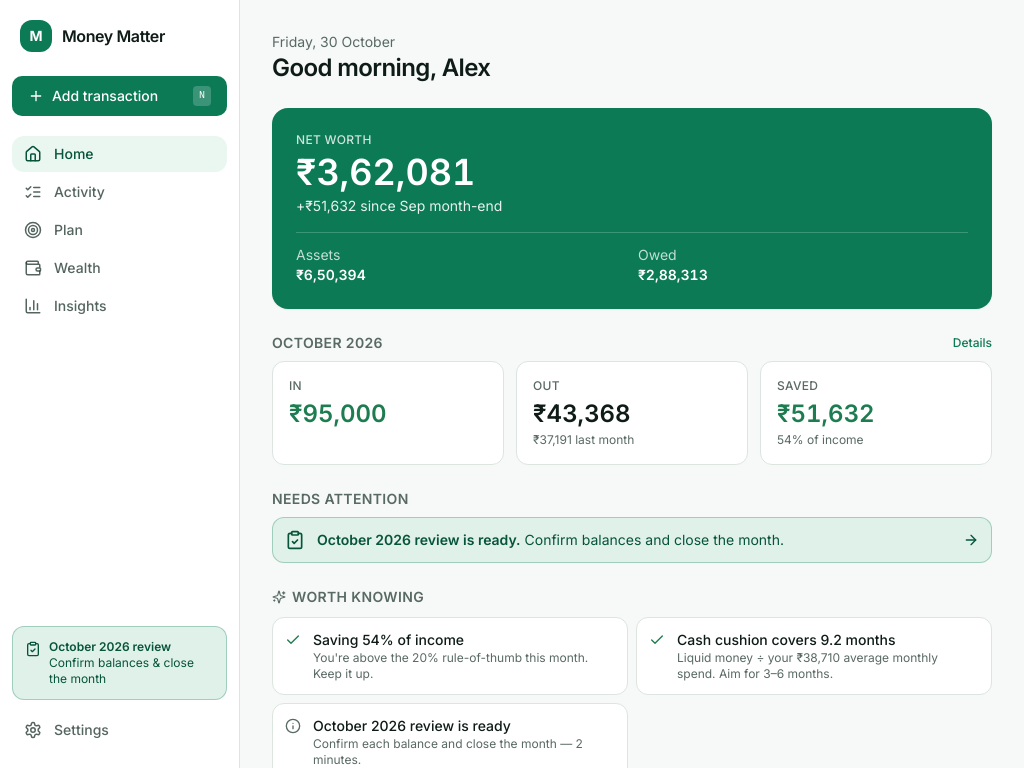
Test case: quick add › validates before saving
The image size is (1024, 768).
Expected: the text "Net worth" is shown, [296,132,372,147]
Type keys "n"
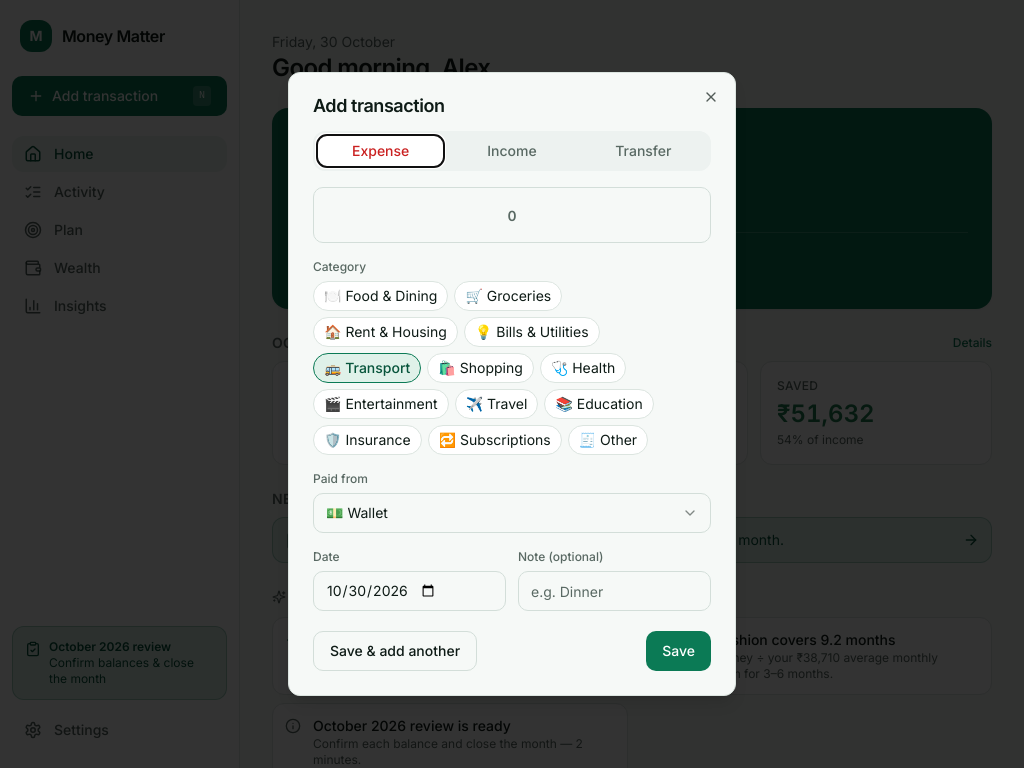
Click the button "Save" at (679, 651), box [646,631,711,671]
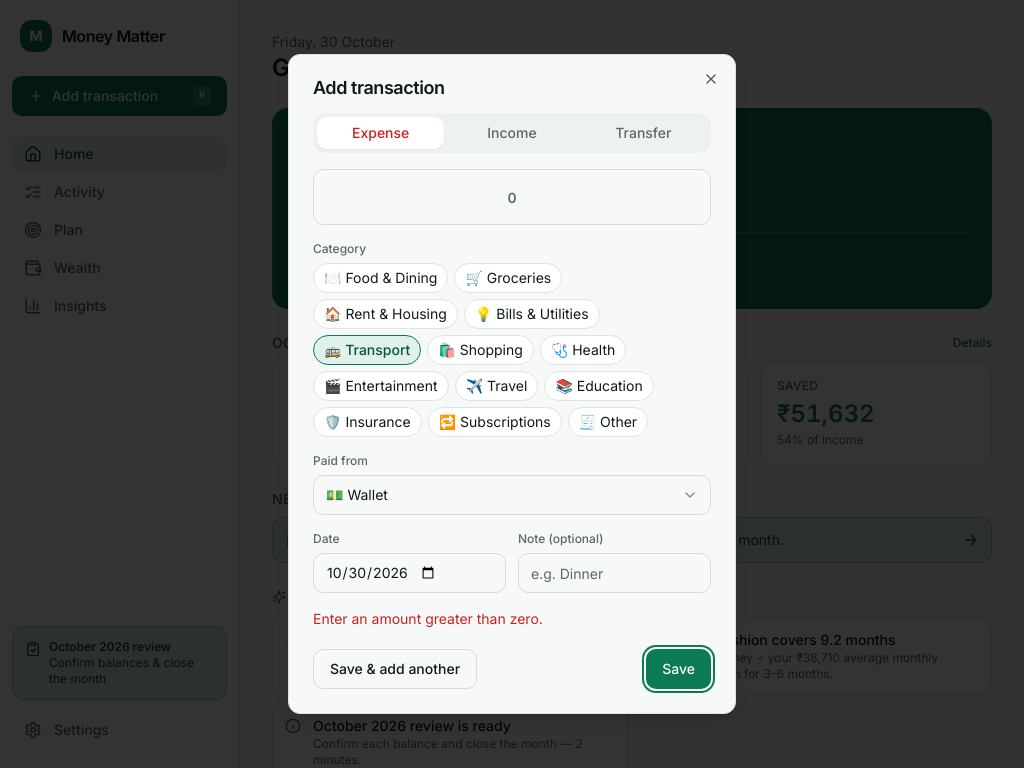
Now the text "Enter an amount greater than zero." is shown, box [313,610,543,627]
